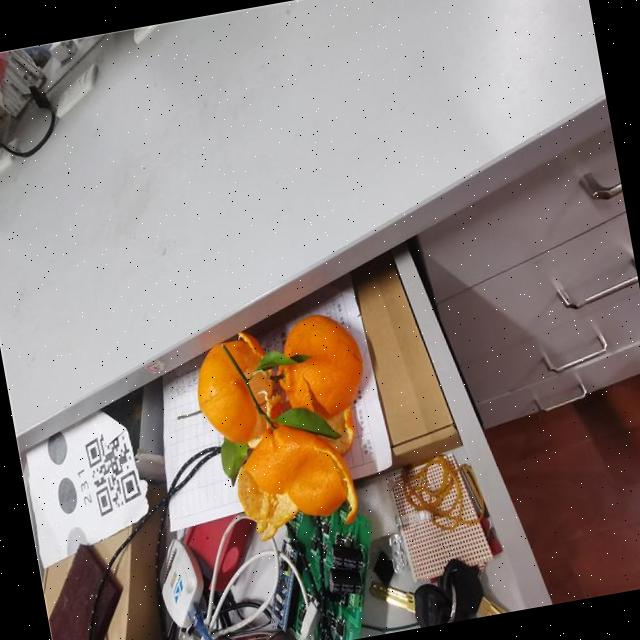orange-peel: (184, 305, 390, 549)
